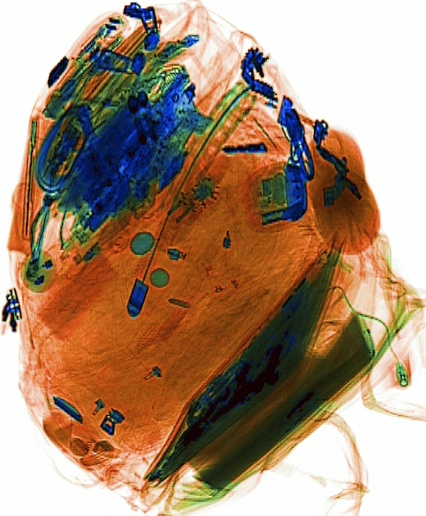powerbank: (62, 88, 165, 227)
